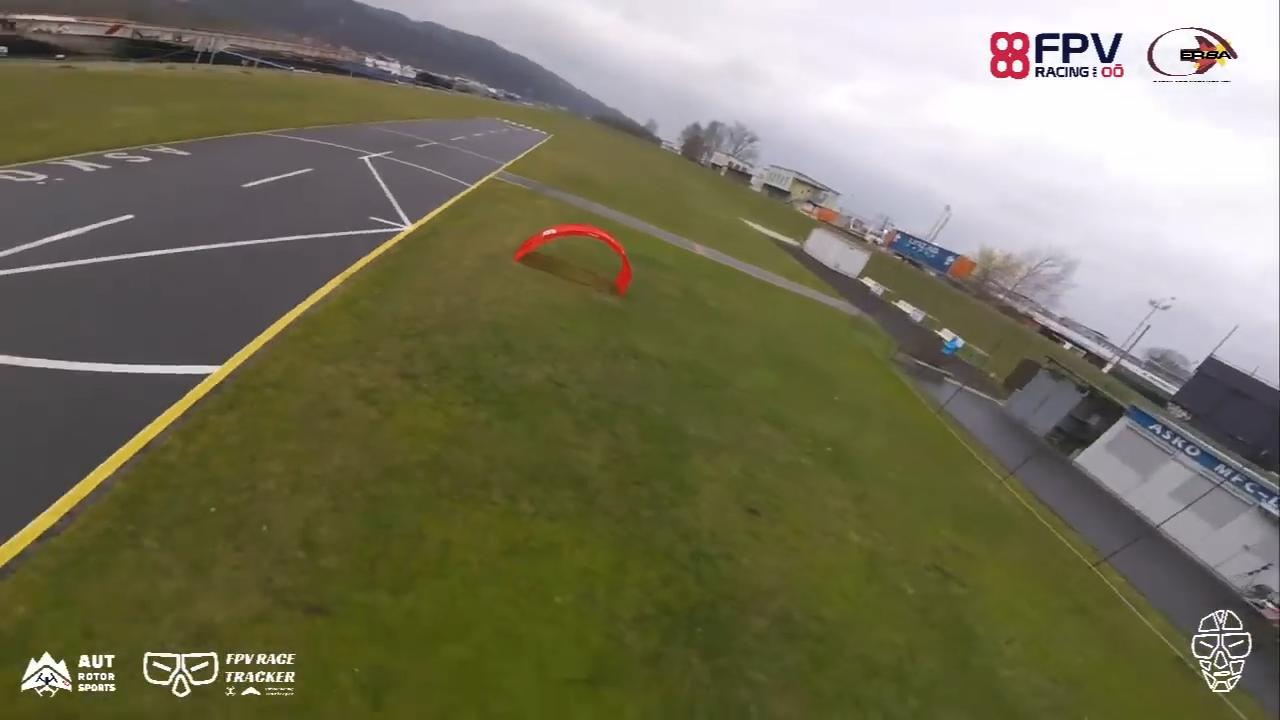gate: (514, 221, 632, 302)
